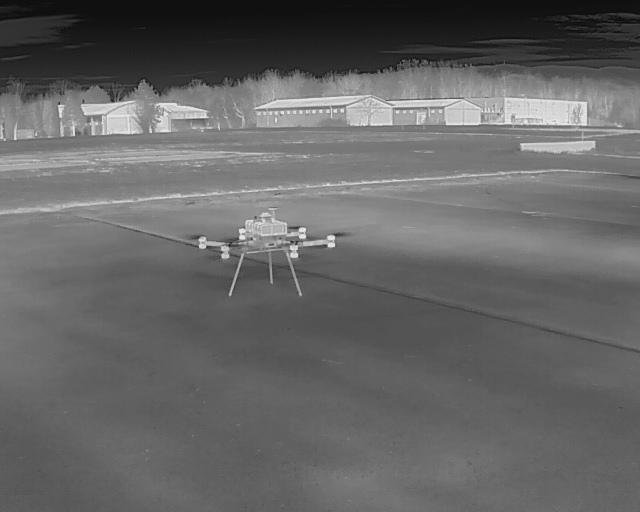drone: (175, 199, 357, 305)
